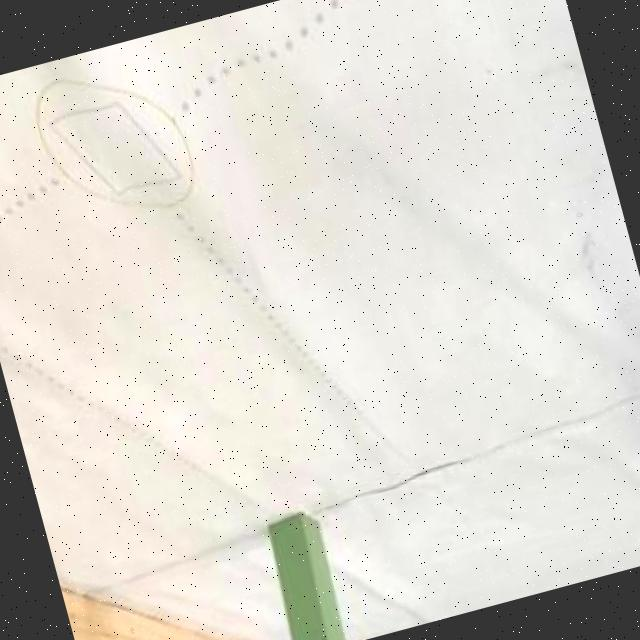greenbox: (258, 510, 350, 640)
